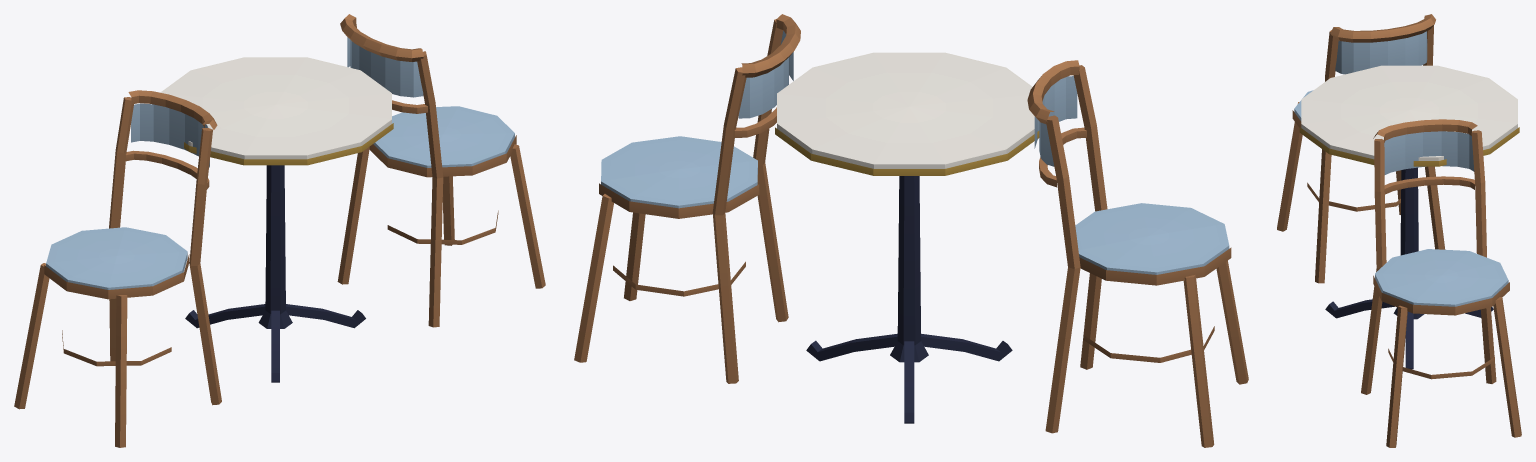
File: cafe_set.glb
The picture shows the model from 3 angles, left to right: view 1: azimuth 30°, elevation 25°; view 2: azimuth 150°, elevation 25°; view 3: azimuth 270°, elevation 25°; orthographic projection. The views are drawn at different scales.
Parts seen in each view (by area): view 1: cafe_set.001; view 2: cafe_set.001; view 3: cafe_set.001.
Part boxes in pixels (<box>): cafe_set.001: <box>14,14,545,447</box>; cafe_set.001: <box>574,14,1248,447</box>; cafe_set.001: <box>1277,14,1521,447</box>.
Size of the model in its own units: 1.76 by 0.8915 by 0.7642.
1 material, 1 textured.
